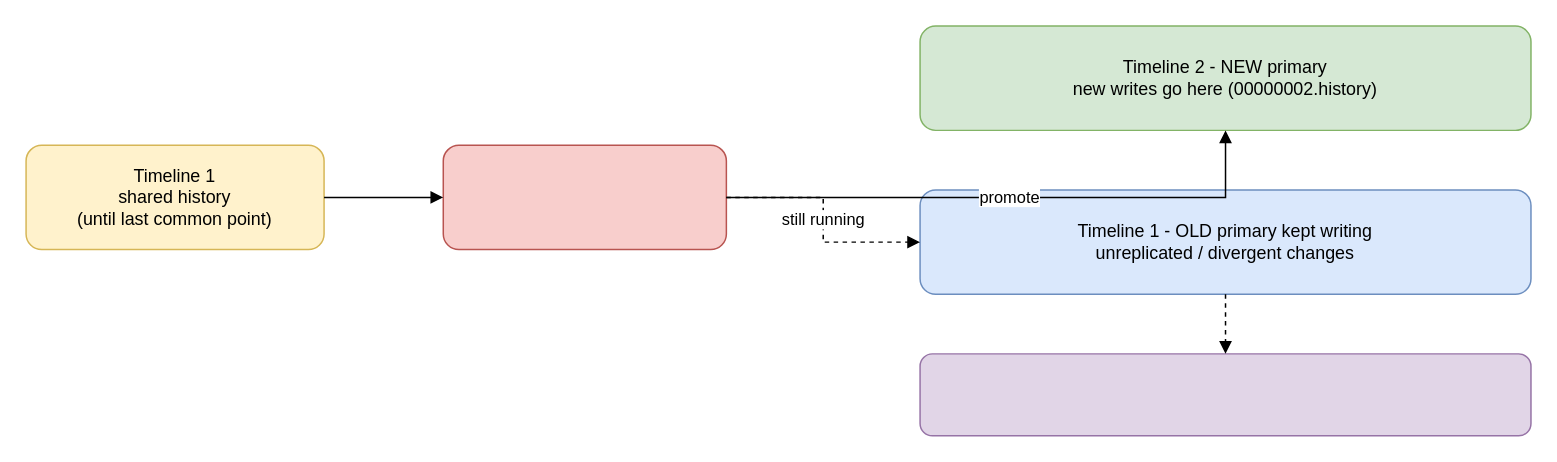
Some shapes in this 1557 by 462 pixel diagram are drawn without their labels. Here are the shapes that lost their labels. From the top down, the box of each, then its label:
(442, 144, 726, 250): Divergence point old primary dies; standby promoted
(919, 352, 1531, 436): pg_rewind: undo divergent blocks, copy from TL2, then follow TL2
